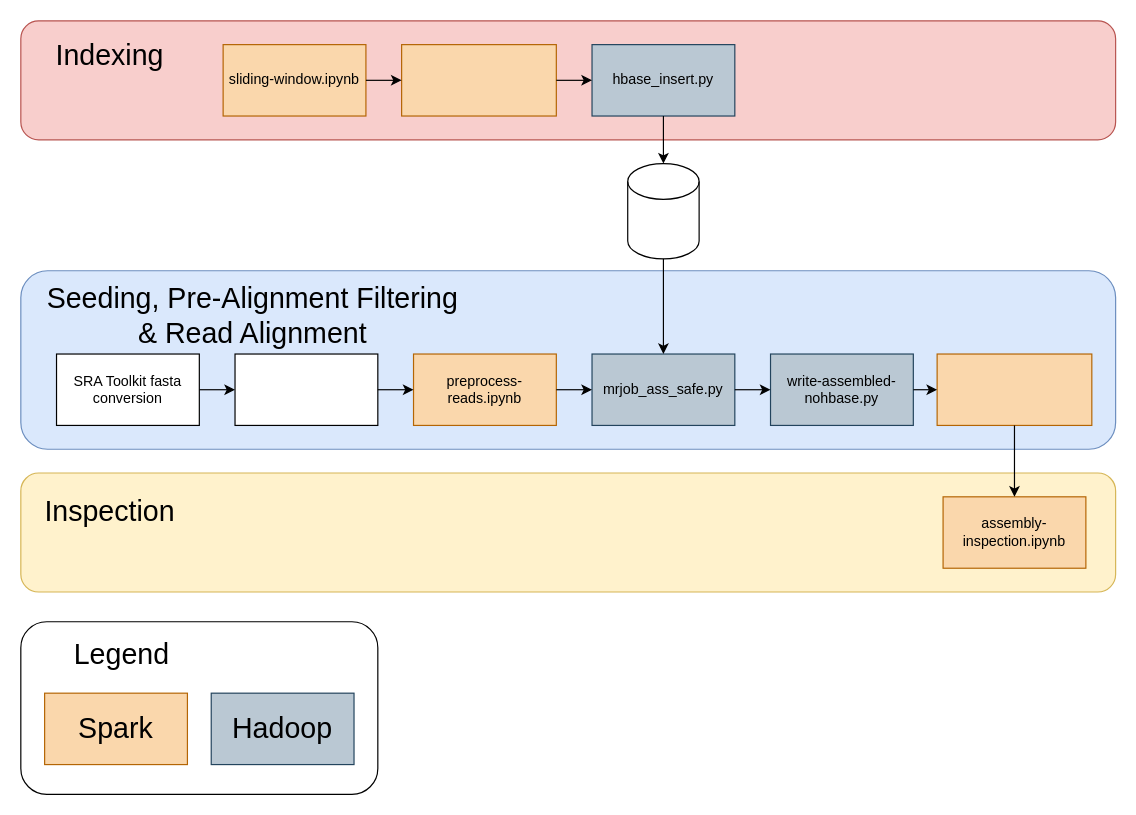
The diagram is 1136 pixels wide and 815 high, and some of its shapes have lost their labels. Each missing label, with the centre of its shape:
"convert-spark-hadoop-window.ipynb" goes at [478,79].
"Hadoop FS: Upload fasta" goes at [306,389].
"HBase" goes at [663,210].
"re-assemble-grouped-positions.ipynb" goes at [1014,389].
